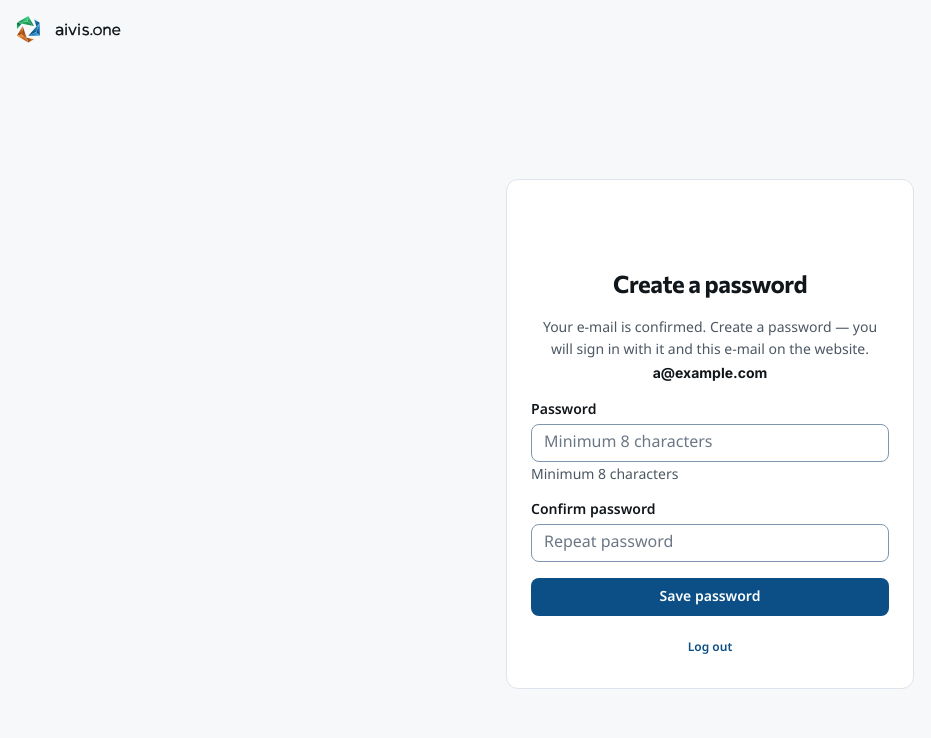
Scenario: SetPasswordView › refuses not the same before sending
The width and height of the screenshot is (931, 738).
Type "Chosen-pass-1" into the password field labelled "Password" at [710, 443], box [531, 424, 889, 462]
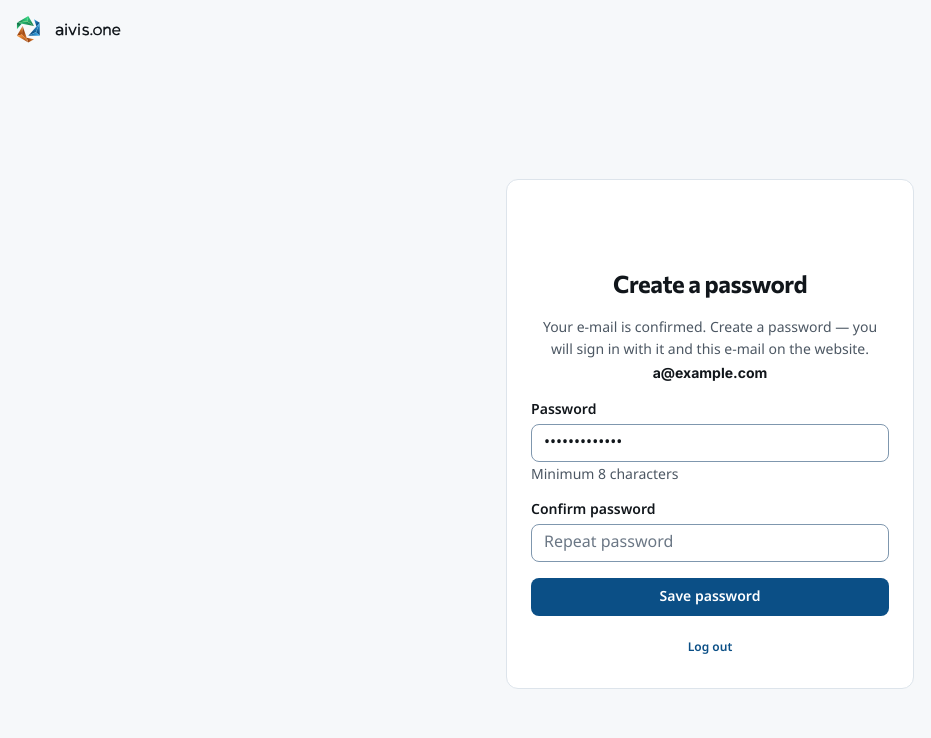
Type "Chosen-pass-2" into the password field labelled "Confirm password" at [710, 543], box [531, 524, 889, 562]
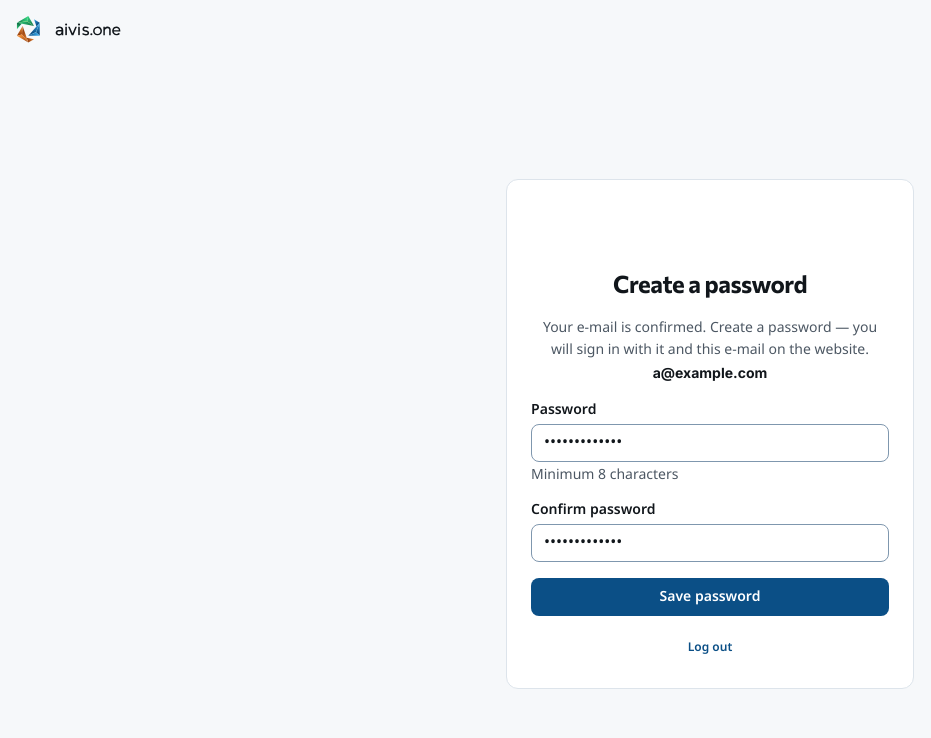
Click the button with class "ds-button--primary" at [710, 597], box [531, 578, 889, 616]
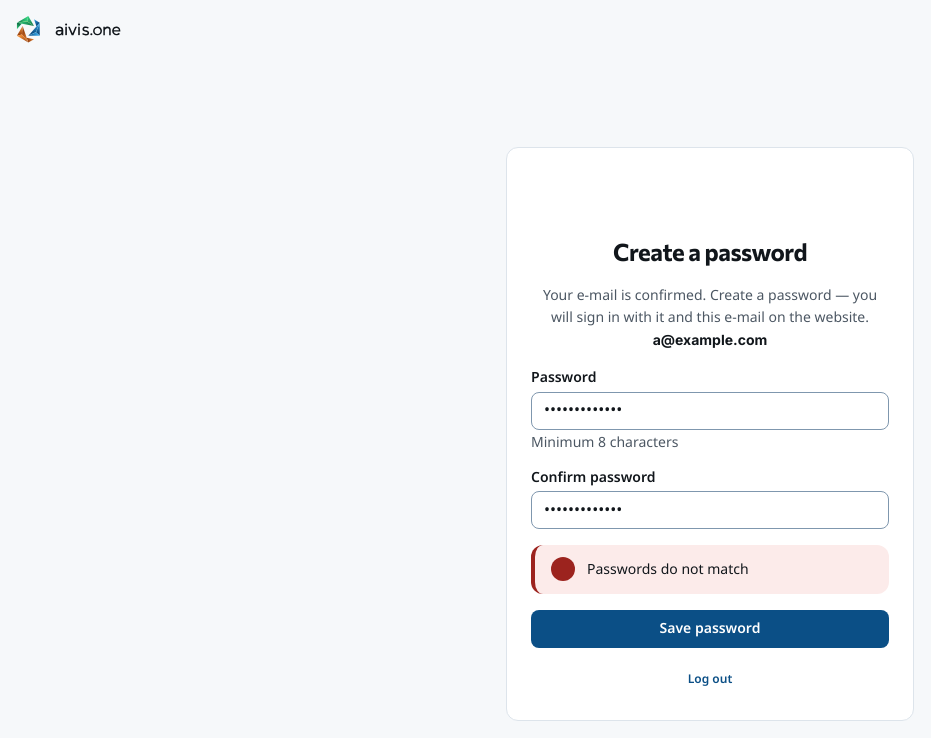
Check: the message "Passwords do not match" is shown, box [531, 545, 889, 594]
